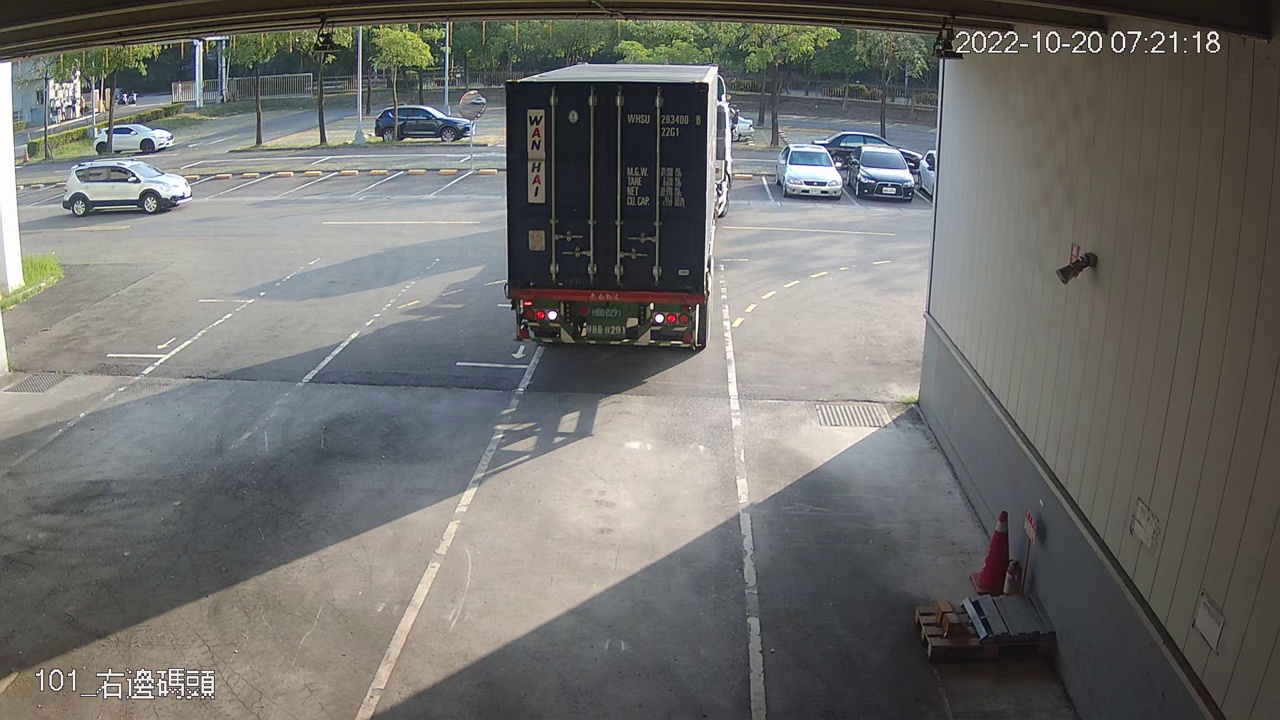container: (620, 108, 705, 142)
